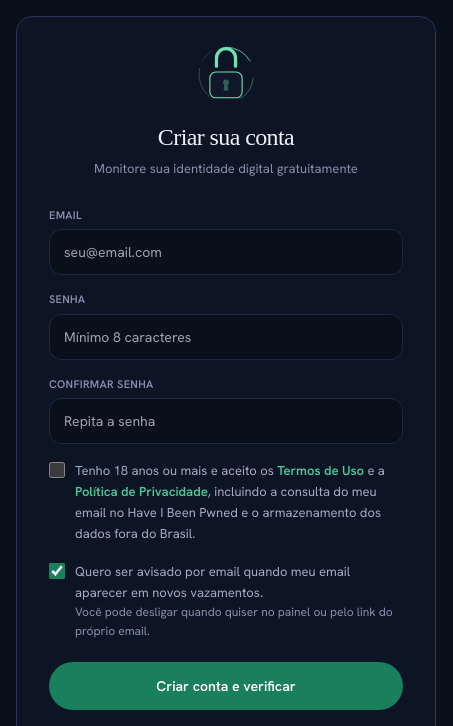
Test: Auth (cadastro) › signs up with the alerts on and asks to confirm the e-mail
Type "Jane@Example.com" into the field labelled "EMAIL" at (226, 252), box x1=49 y1=229 x2=403 y2=275
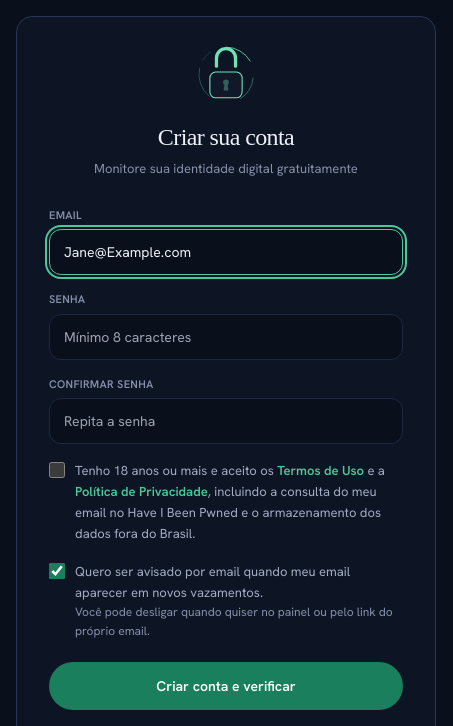
Type "StrongPass123" into the password field labelled "SENHA" at (226, 336), box x1=49 y1=314 x2=403 y2=360
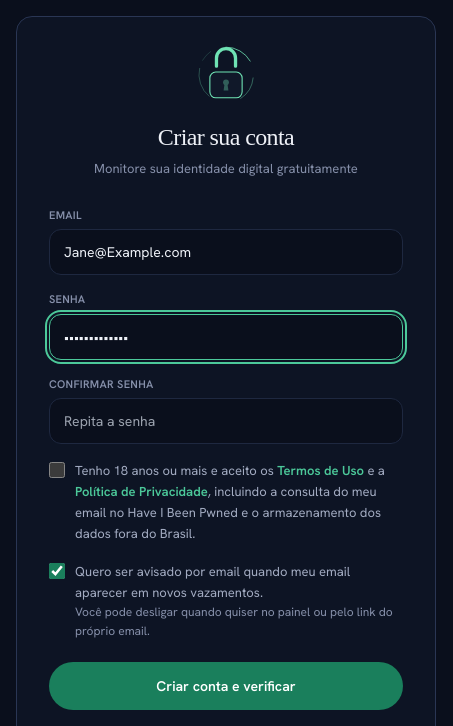
Type "StrongPass123" into the password field labelled "CONFIRMAR SENHA" at (226, 421), box x1=49 y1=398 x2=403 y2=444
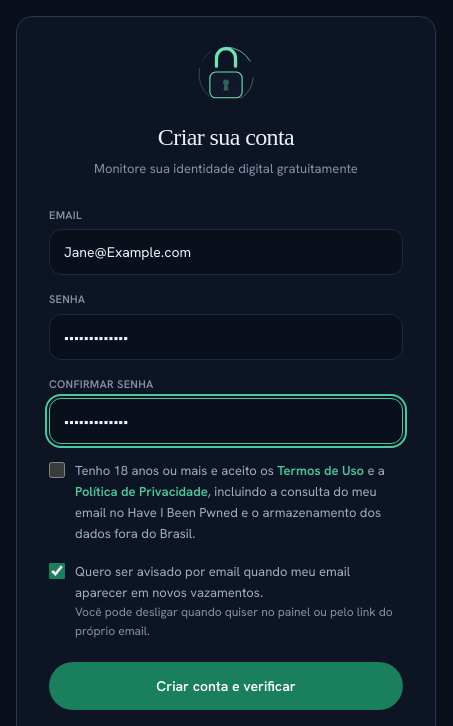
Click the checkbox labelled "aceito os Termos de Uso" at (57, 470), box x1=49 y1=462 x2=65 y2=478
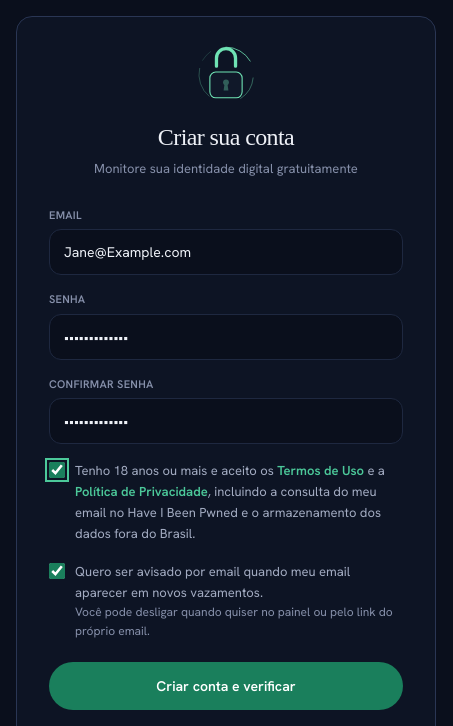
Click the button "Criar conta e verificar" at (226, 686), box x1=49 y1=662 x2=403 y2=710
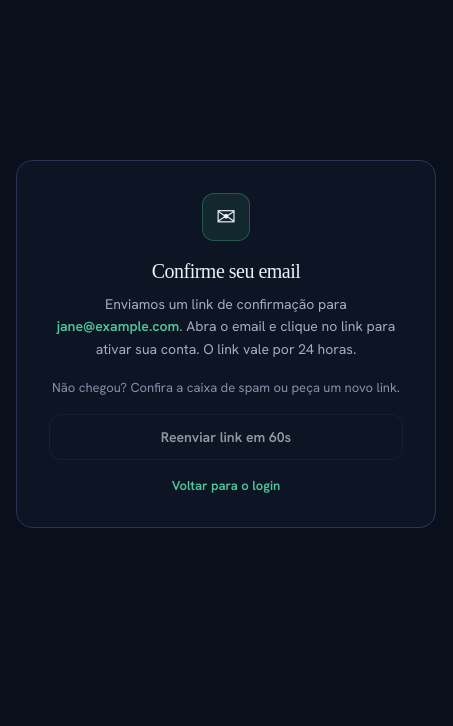
Now the heading "Confirme seu email" is shown, box x1=152 y1=260 x2=300 y2=282
Now the text "jane@example.com" is shown, box x1=57 y1=317 x2=179 y2=335
Now the button "Reenviar link em 60s" is disabled, box x1=49 y1=414 x2=403 y2=460
